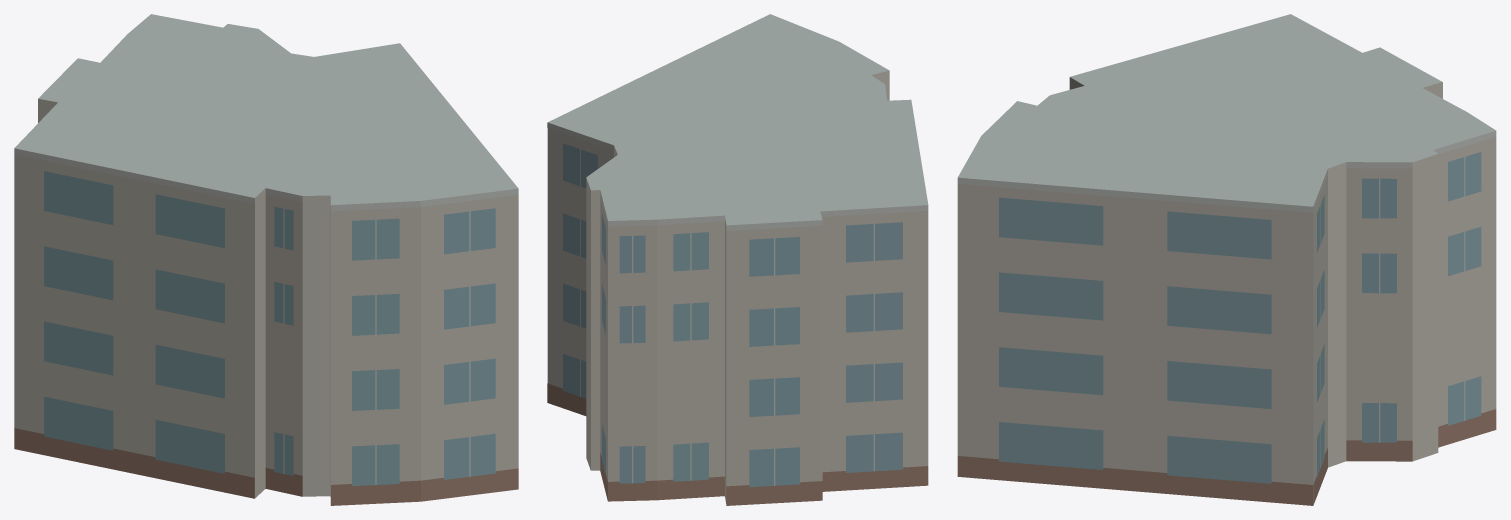
Rendered from survey-upis-33021184.glb.
The picture shows the model from 3 angles, left to right: view 1: azimuth 30°, elevation 25°; view 2: azimuth 150°, elevation 25°; view 3: azimuth 270°, elevation 25°; orthographic projection. The views are drawn at different scales.
Parts seen in each view (by area): view 1: survey-upis-33021184.tmp; view 2: survey-upis-33021184.tmp; view 3: survey-upis-33021184.tmp.
Boxes of the visible parts, box(x1,y1,x2,y2) form: survey-upis-33021184.tmp: box(14, 14, 518, 505); survey-upis-33021184.tmp: box(547, 14, 928, 505); survey-upis-33021184.tmp: box(957, 14, 1496, 505).
Bounding box in the file's own units: 16.59 × 12 × 19.6.
